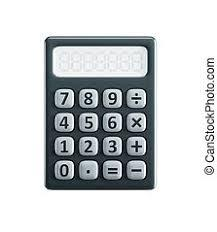Calculator: (31, 26, 163, 197)
